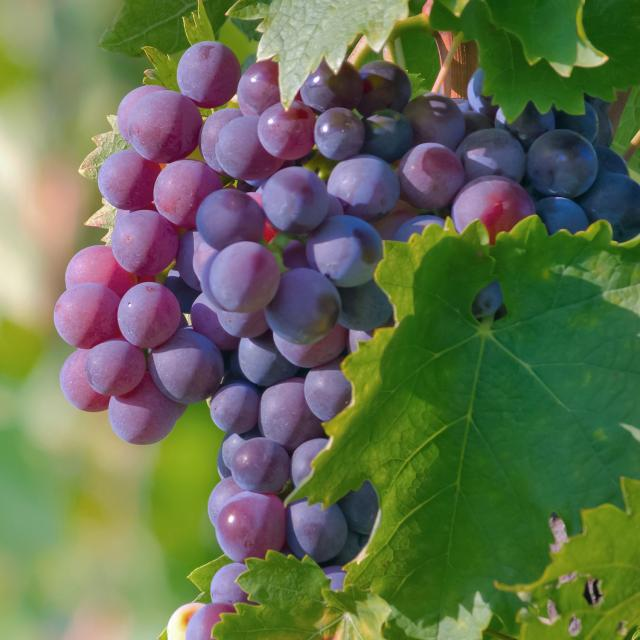grape: (54, 5, 600, 610)
